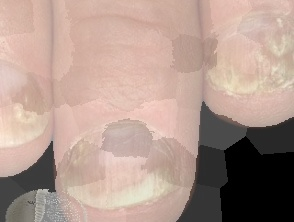Nail_psoriasis: (49, 102, 204, 222), (200, 0, 294, 116), (0, 16, 50, 157)
